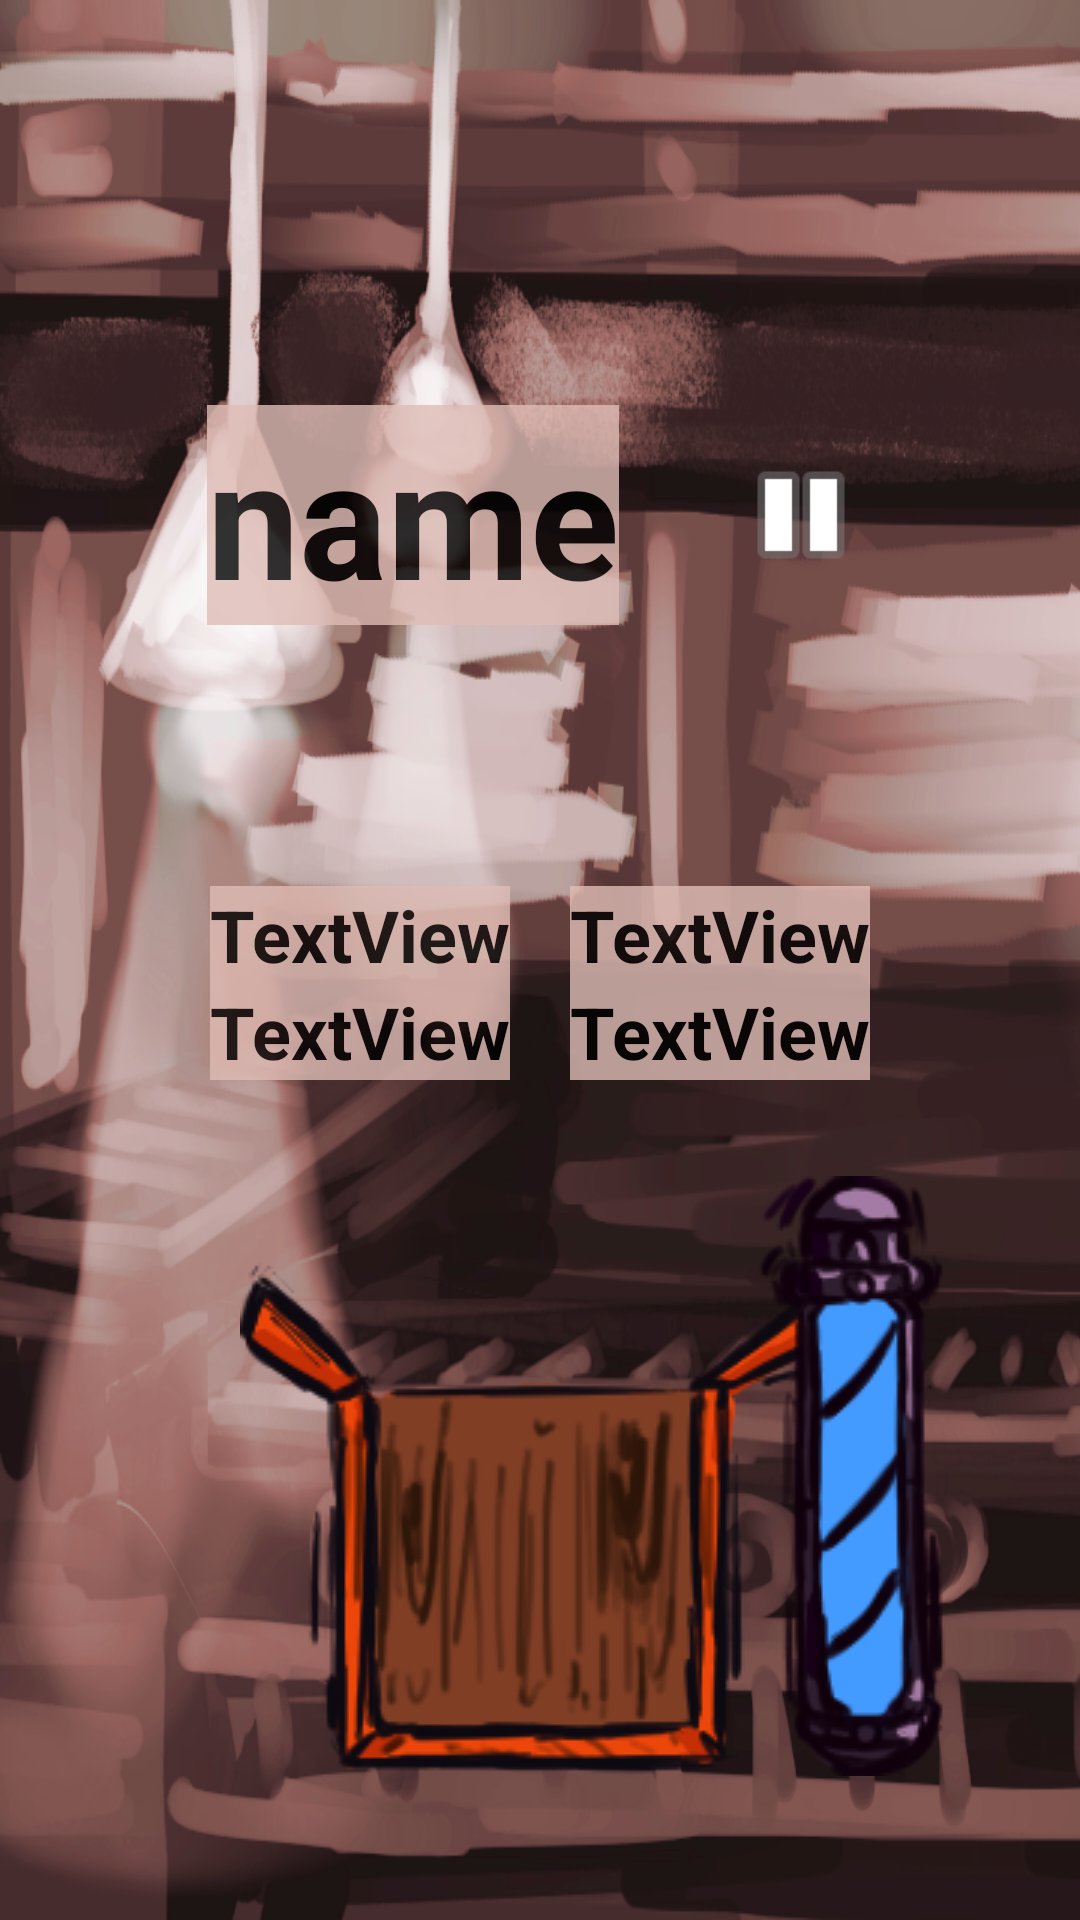

Point at icon controls on the screen. Image size 1080*1920, points as [x,y].
pause: [801,515]
